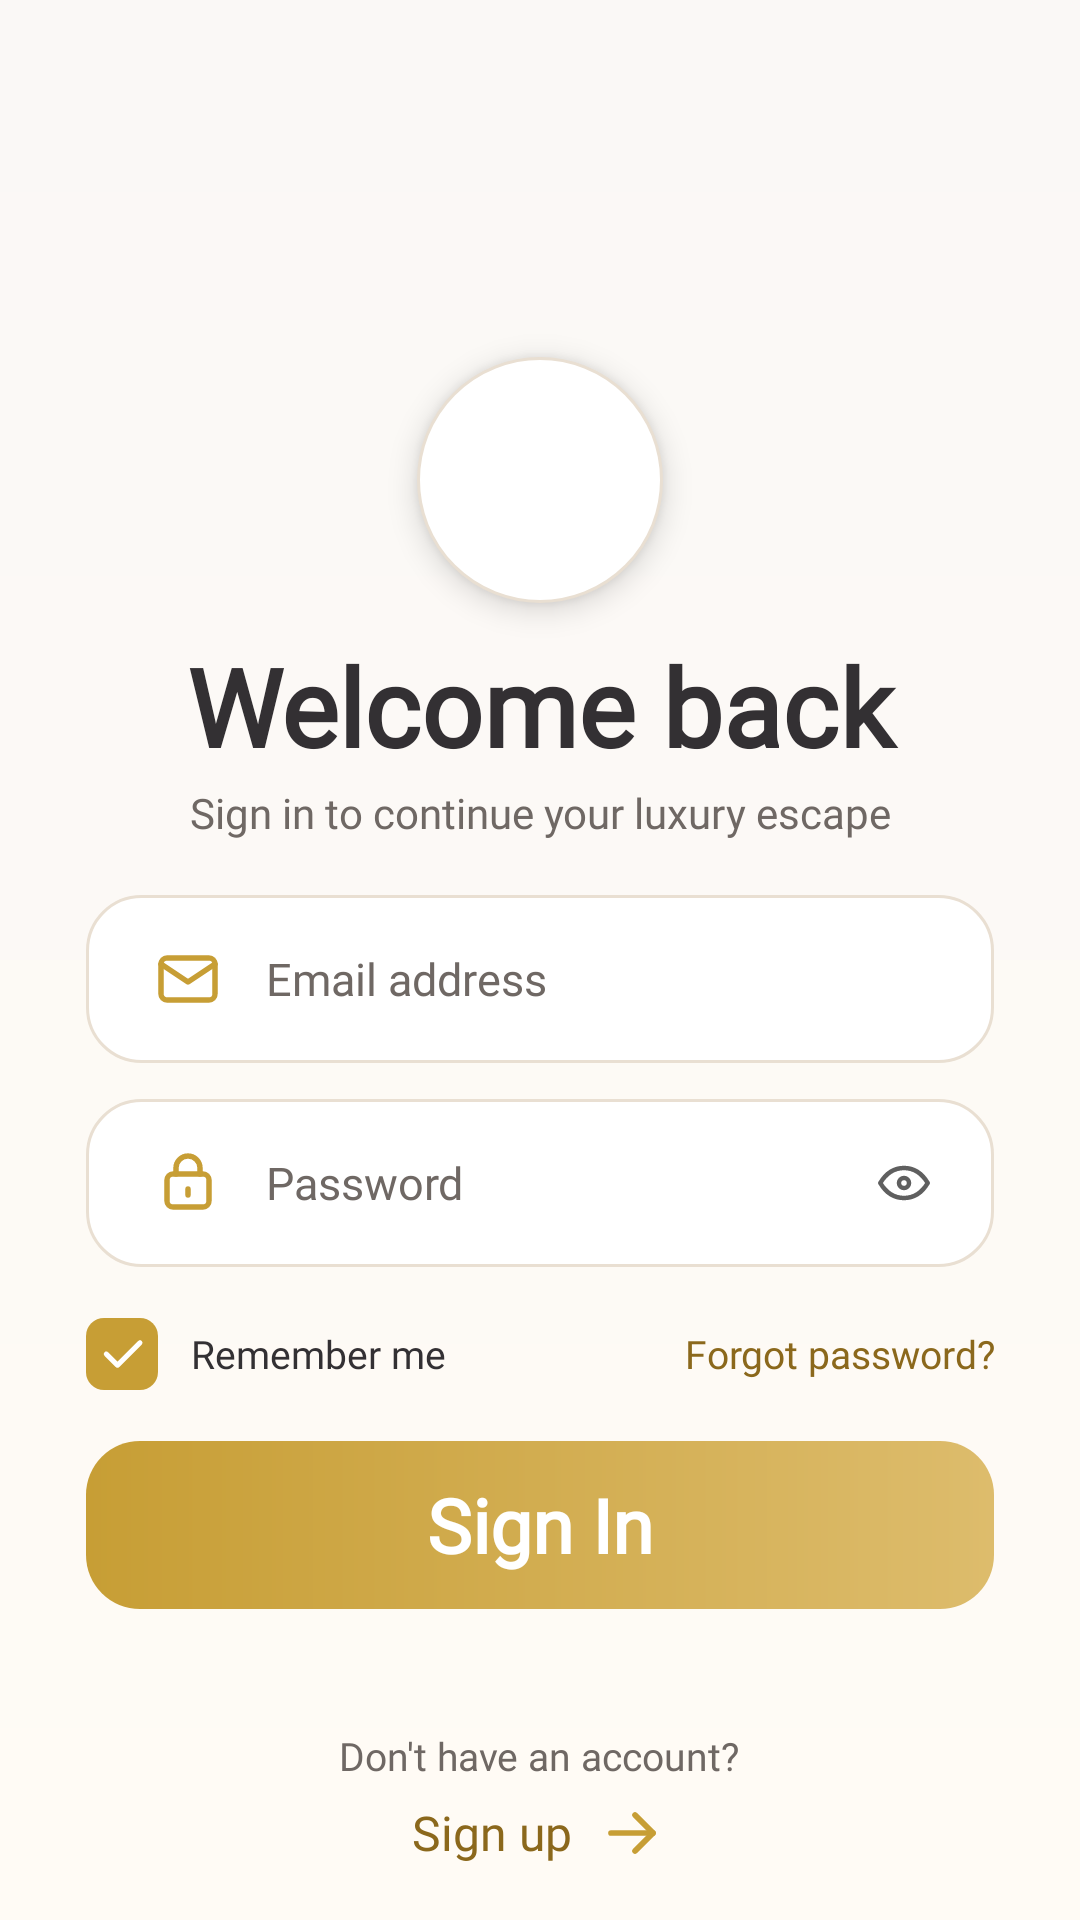

Named icons in this screenshot (1080x1920) and their bounding boxes, region(x1, y1, x2, y2):
Show: region(878, 1165, 930, 1201)
